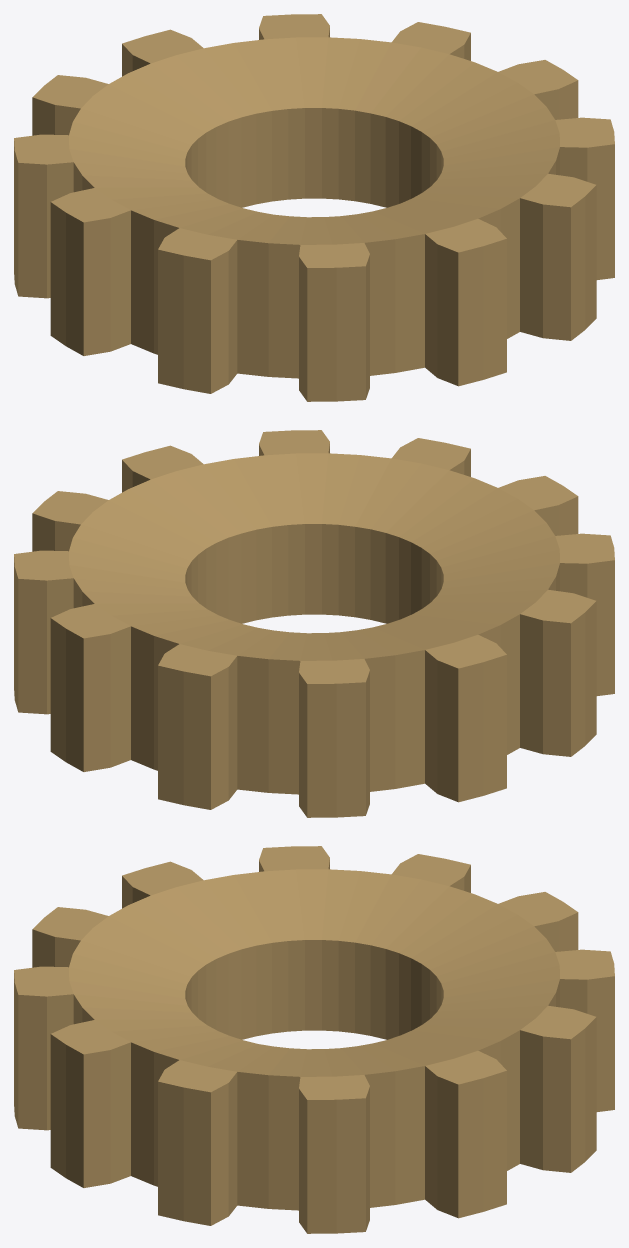
The model's file is Rouage4.fbx.
3 views of the same model, one above another, from view 1: azimuth 30°, elevation 25°; view 2: azimuth 150°, elevation 25°; view 3: azimuth 270°, elevation 25° (orthographic).
Parts seen in each view (by area): view 1: Gear.4; view 2: Gear.4; view 3: Gear.4.
Part boxes in pixels (bbox=[...]): Gear.4: bbox=[14, 14, 614, 401]; Gear.4: bbox=[14, 430, 614, 817]; Gear.4: bbox=[14, 846, 614, 1233].
Bounding box in the file's own units: 13193 × 3240 × 13193.
